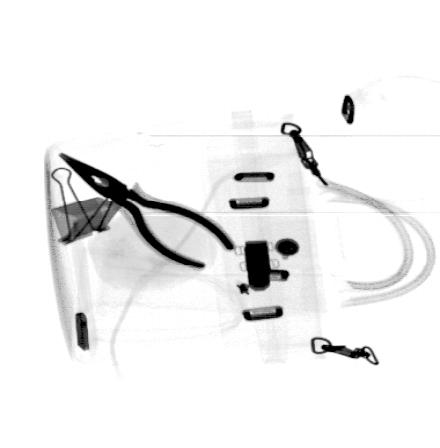Pliers: (56, 150, 238, 272)
